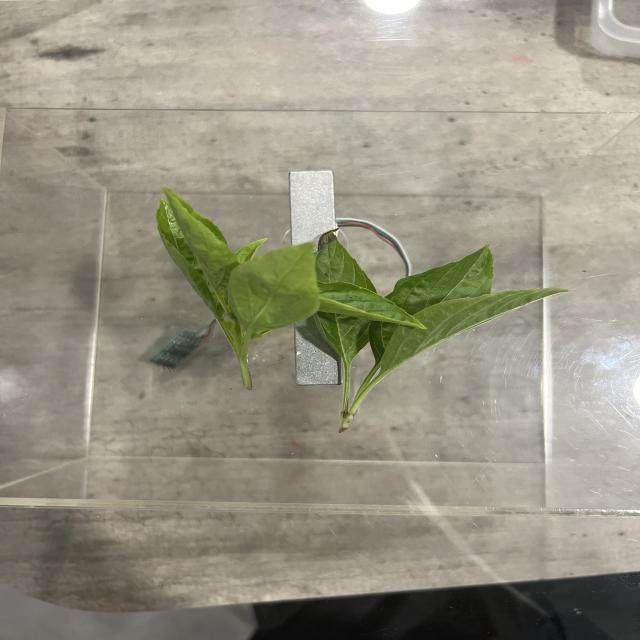thai basil: (151, 185, 562, 425)
